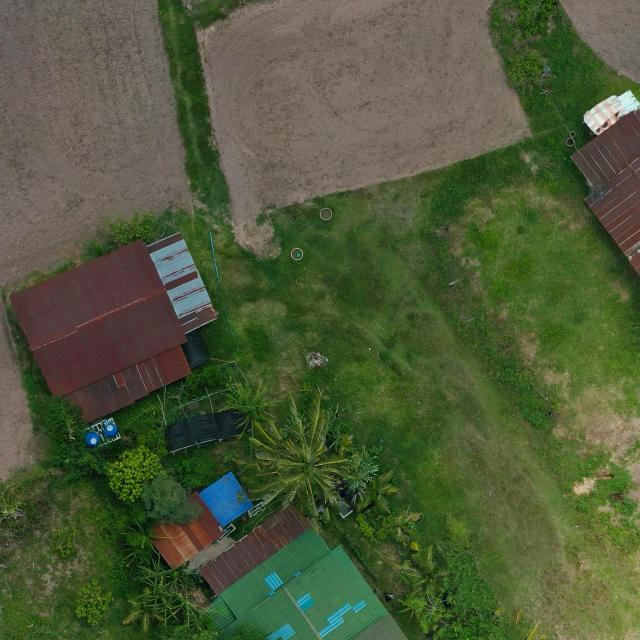Tree: (230, 388, 346, 517), (222, 376, 281, 438), (140, 470, 204, 526), (105, 445, 163, 503), (393, 540, 452, 586), (118, 519, 174, 567), (157, 590, 219, 632), (397, 585, 452, 629), (433, 615, 517, 640), (354, 469, 398, 516), (73, 578, 113, 626), (134, 552, 174, 594)
